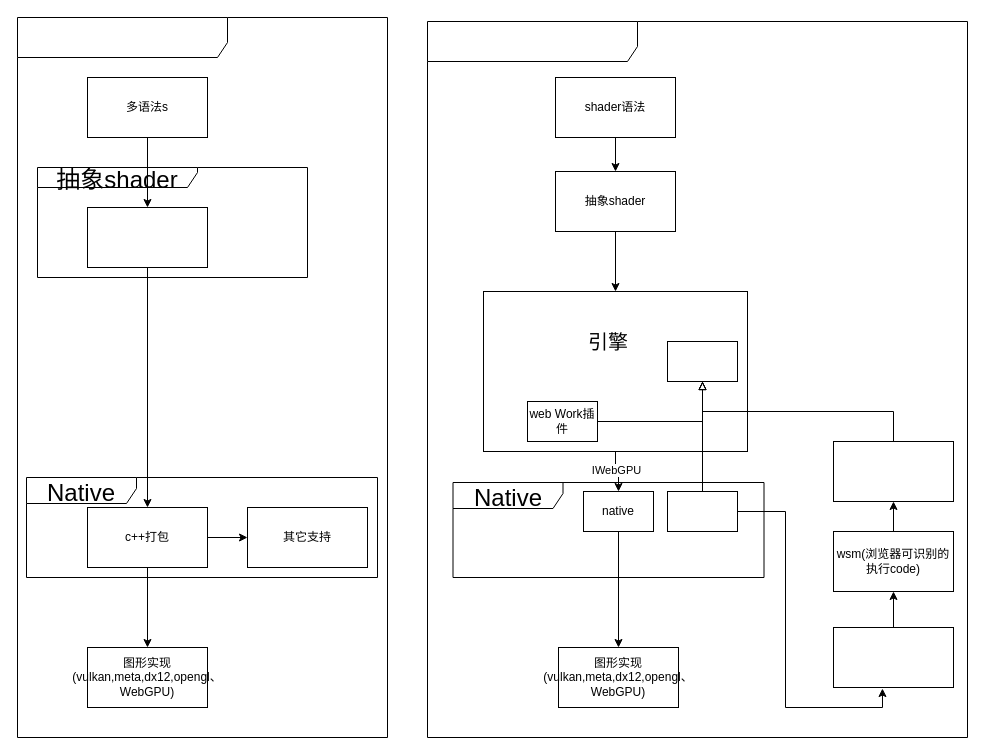
This 985x755 diagram has some shape labels left out. The box of each missing label's shape, as (x1, y1, x2, y2) in pixels:
js: (832, 440, 954, 502)
native Work插件: (666, 490, 738, 532)
Wonder: (426, 20, 968, 738)
Work插件接口: (666, 340, 738, 382)
中间转换: (832, 626, 954, 688)
太极: (16, 16, 388, 738)
转义: (86, 206, 208, 268)
